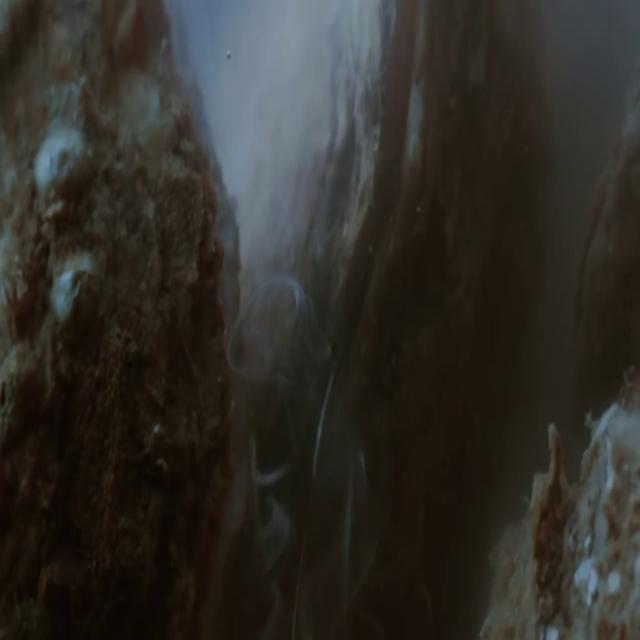Oyster-Closed: (262, 8, 555, 626), (571, 82, 638, 410)
Oyster-Indeterminate: (6, 11, 252, 630)
